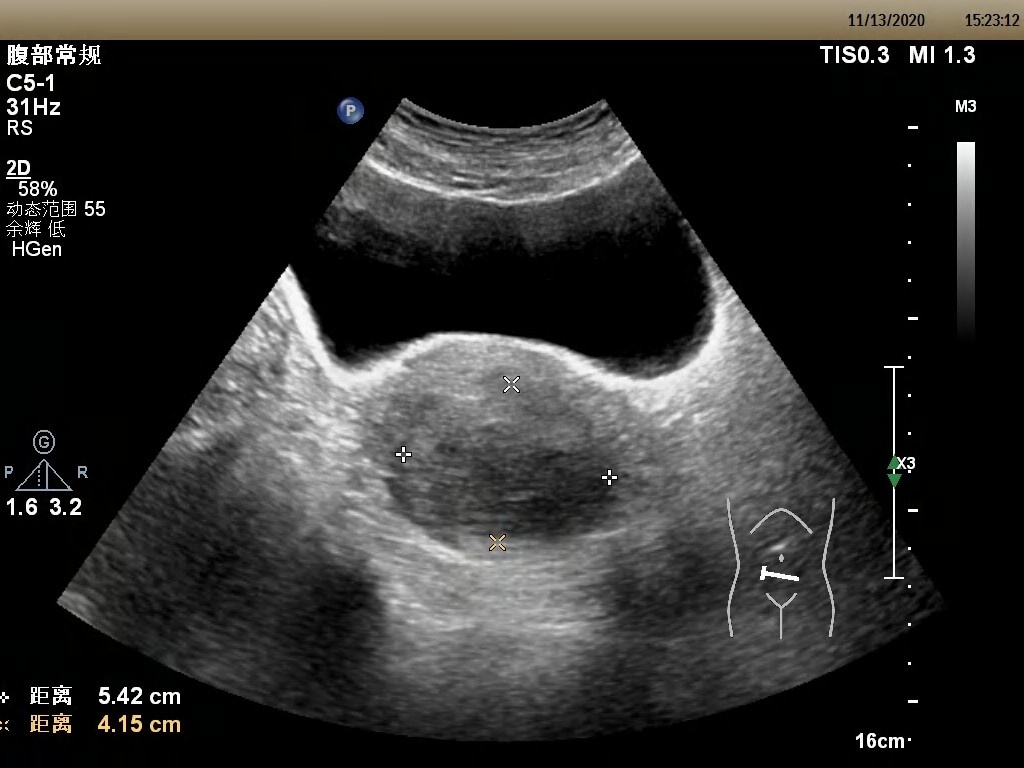肌瘤: (397, 388, 614, 545)
